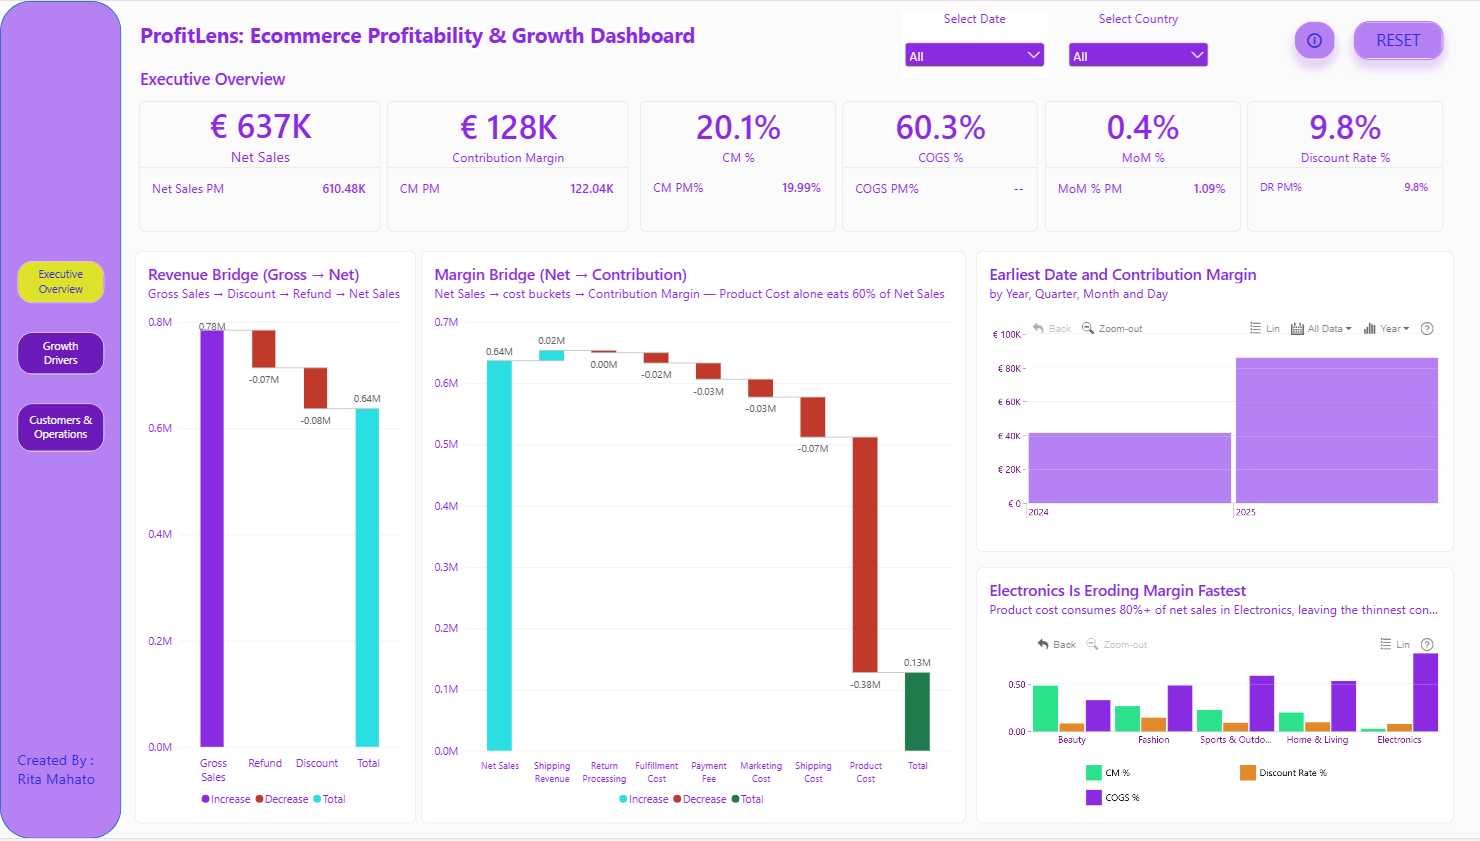

Layout of this report page (visuals, bound fields, positions):
{"tool":"powerbi","page":{"name":"Executive Overview","canvas":[1920,1080],"ordinal":0},"visuals":[{"type":"cardVisual","title":"KPI Card1","fields":{"Data":["Measures (2).Net Sales","Measures (2).Contribution Margin"]},"box":[179.7,129.8,632.8,169.7],"z":0},{"type":"cardVisual","title":"KPI Card2","fields":{"Data":["Measures (2).CM %","Measures (2).Product Cost % of Net Sales","Measures (2).YoY %","Measures (2).Discount Rate %"]},"box":[826.5,129.8,1036.1,169.7],"z":1000},{"type":"textbox","title":"Report Name Text box","box":[181,25.3,736.5,59.7],"z":2000},{"type":"shape","box":[0,0,156.4,1080.6],"z":3000},{"type":"actionButton","title":"Reset Button","box":[1746,26,116,50],"z":4000},{"type":"actionButton","title":"Info Button","box":[1670,26,54,50],"z":5000},{"type":"textbox","title":"Sign Text box","box":[22,966,112,60],"z":6000},{"type":"actionButton","title":"Nav Button EO","box":[22,336,112,54],"z":7000},{"type":"actionButton","title":"Nav Button GD","box":[22,428,112,54],"z":8000},{"type":"actionButton","title":"Nav Button CO","box":[22,520,112,62],"z":9000},{"type":"slicer","title":"Select Date","fields":{"Values":["DimDate.YearMonth"]},"box":[1163.6,10.9,190,88],"z":10000},{"type":"slicer","title":"Select Country","fields":{"Values":["DimGeography.Country"]},"box":[1373.5,10.9,190,85.1],"z":11000},{"type":"waterfallChart","title":"Revenue Bridge (Gross → Net)","fields":{"Category":["Waterfall Steps.StepName"],"Y":["Measures (2).Waterfall Value"]},"box":[174,322,362,738],"z":12000},{"type":"waterfallChart","title":"Margin Bridge (Net → Contribution)","fields":{"Category":["Waterfall Steps.StepName"],"Y":["Measures (2).Waterfall Value"]},"box":[544,322,702,738],"z":13000},{"type":"ZoomChartsDrillDownTimelinePro7F6C01BA1C534E9AB4A6BCCB44F591","fields":{"DateValue":["Min(DimDate.Date)"],"Category":["DimDate.Year","DimDate.Quarter","DimDate.Month","DimDate.Day"],"Values1":["Measures (2).Contribution Margin"]},"box":[1260,322,616,388],"z":14000},{"type":"ZoomChartsFacetChartPaidE77E4ED357DC402ABA005987437CF500","title":"Electronics Is Eroding Margin Fastest","fields":{"Category":["DimProduct.Category","DimProduct.Subcategory"],"Values1":["Measures (2).CM %"],"Values3":["Measures (2).Product Cost % of Net Sales"],"Values2":["Measures (2).Discount Rate %"]},"box":[1260,730,616,330],"z":15000},{"type":"textbox","box":[181,85.1,219,57.9],"z":26000}]}

Visuals, with their boxes in screenshot pixels (x1, y1, x2, y2), scaled from the page's 1920x1080 canvas onto the 1480x841 screenshot:
"KPI Card1" cardVisual: Rect(139, 101, 626, 233)
"KPI Card2" cardVisual: Rect(637, 101, 1436, 233)
"Report Name Text box" textbox: Rect(140, 20, 707, 66)
shape: Rect(0, 0, 121, 840)
"Reset Button" actionButton: Rect(1346, 20, 1435, 59)
"Info Button" actionButton: Rect(1287, 20, 1329, 59)
"Sign Text box" textbox: Rect(17, 752, 103, 799)
"Nav Button EO" actionButton: Rect(17, 262, 103, 304)
"Nav Button GD" actionButton: Rect(17, 333, 103, 375)
"Nav Button CO" actionButton: Rect(17, 405, 103, 453)
"Select Date" slicer: Rect(897, 8, 1043, 77)
"Select Country" slicer: Rect(1059, 8, 1205, 75)
"Revenue Bridge (Gross → Net)" waterfallChart: Rect(134, 251, 413, 825)
"Margin Bridge (Net → Contribution)" waterfallChart: Rect(419, 251, 960, 825)
ZoomChartsDrillDownTimelinePro7F6C01BA1C534E9AB4A6BCCB44F591 - Min(DimDate.Date) x DimDate.Year: Rect(971, 251, 1446, 553)
"Electronics Is Eroding Margin Fastest" ZoomChartsFacetChartPaidE77E4ED357DC402ABA005987437CF500: Rect(971, 568, 1446, 825)
textbox: Rect(140, 66, 308, 111)
